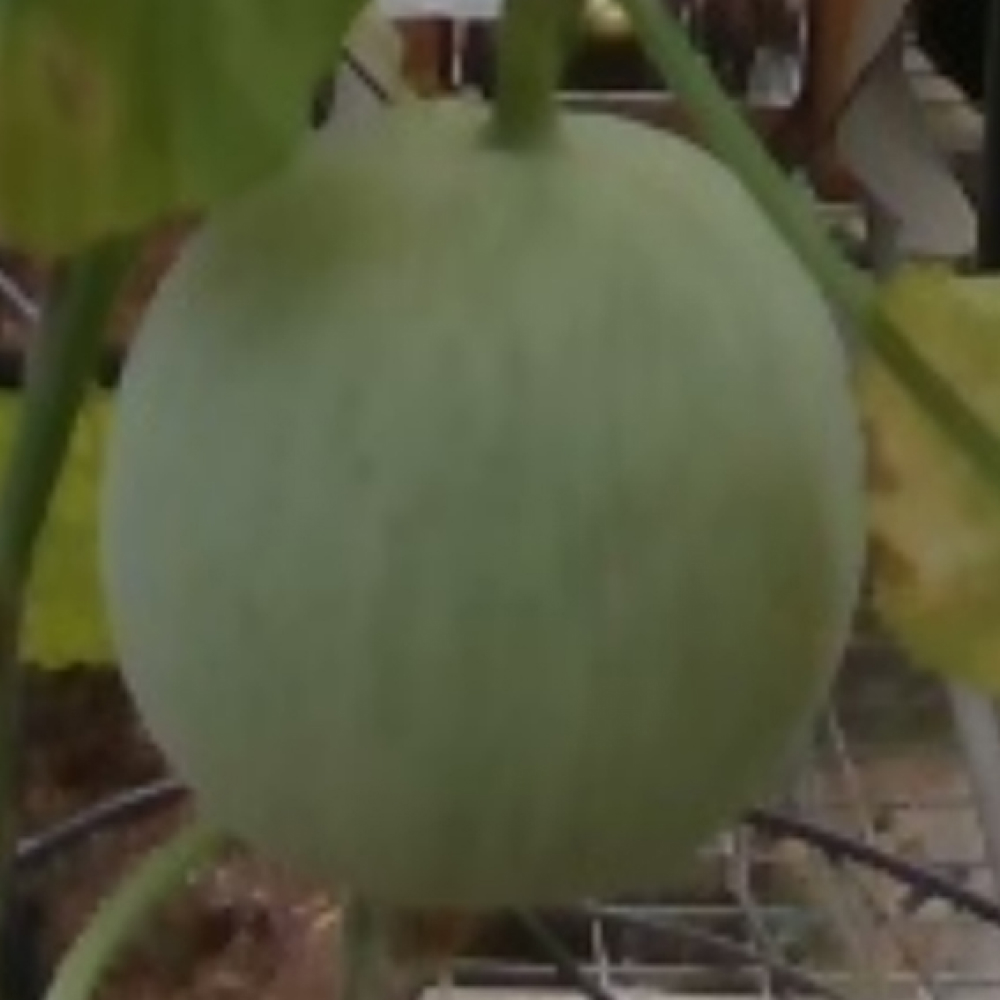melon: (95, 98, 874, 913)
